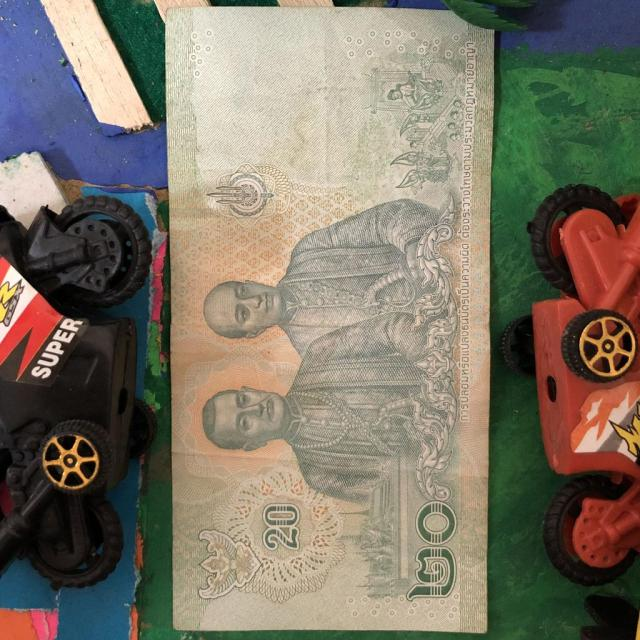THAI20: (166, 7, 496, 636)
